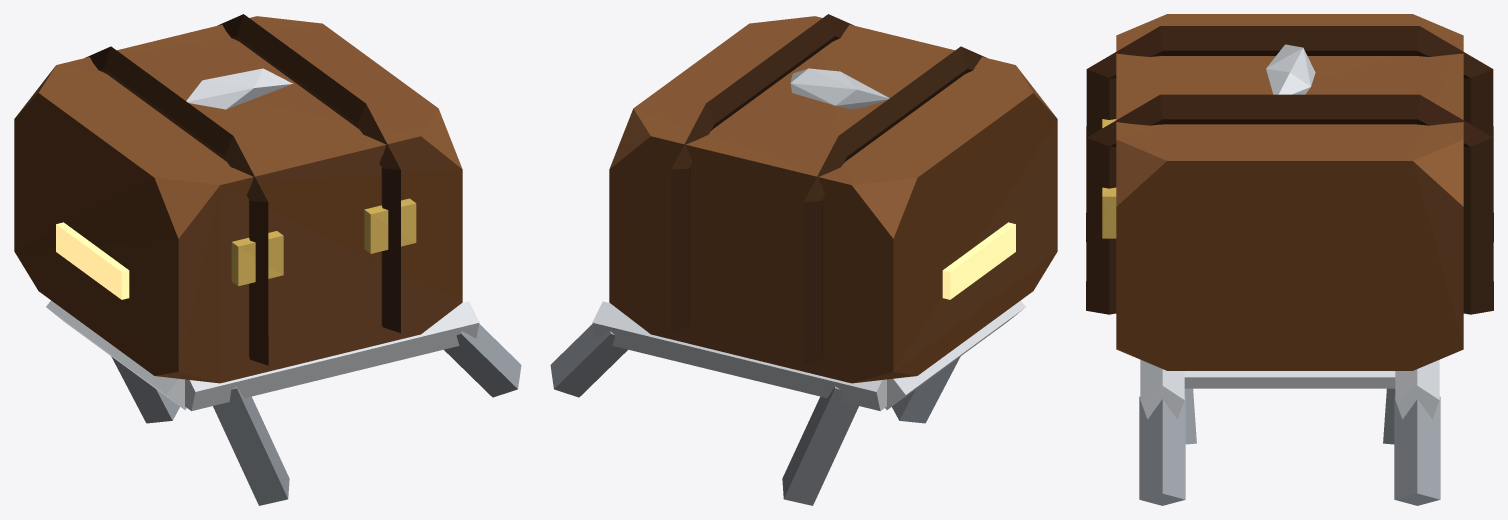
File: gd_motorcycle_topbox.glb
3 renders of one model, left to right at view 1: azimuth 30°, elevation 25°; view 2: azimuth 150°, elevation 25°; view 3: azimuth 270°, elevation 25°, orthographic. The views are drawn at different scales.
Parts seen in each view (by area): view 1: base; view 2: base; view 3: base.
Part boxes in pixels (left/top/right/bottom): base: left=14, top=14, right=521, bottom=505; base: left=550, top=14, right=1057, bottom=505; base: left=1086, top=14, right=1493, bottom=505.
Bounding box in the file's own units: 0.1966 × 0.1924 × 0.176.
